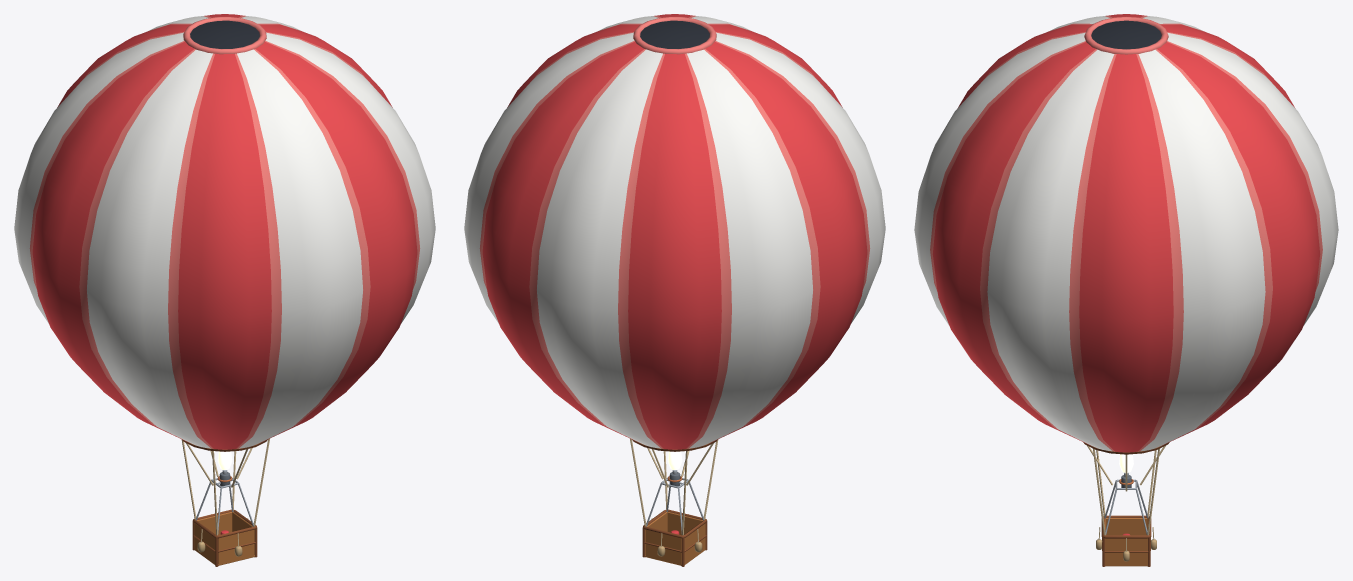
The model's file is balao_listrado_vermelho_branco.glb.
The picture shows the model from 3 angles, left to right: view 1: azimuth 30°, elevation 25°; view 2: azimuth 150°, elevation 25°; view 3: azimuth 270°, elevation 25°; orthographic projection.
Parts seen in each view (by area): view 1: balao_listrado_vermelho_branco; view 2: balao_listrado_vermelho_branco; view 3: balao_listrado_vermelho_branco.
Boxes of the visible parts, x1,y1,x2,y2 form: balao_listrado_vermelho_branco: (14,14,435,566); balao_listrado_vermelho_branco: (464,14,885,566); balao_listrado_vermelho_branco: (914,14,1338,566).
Bounding box in the file's own units: 13.65 × 18.62 × 13.65.
2 materials, 1 textured.
